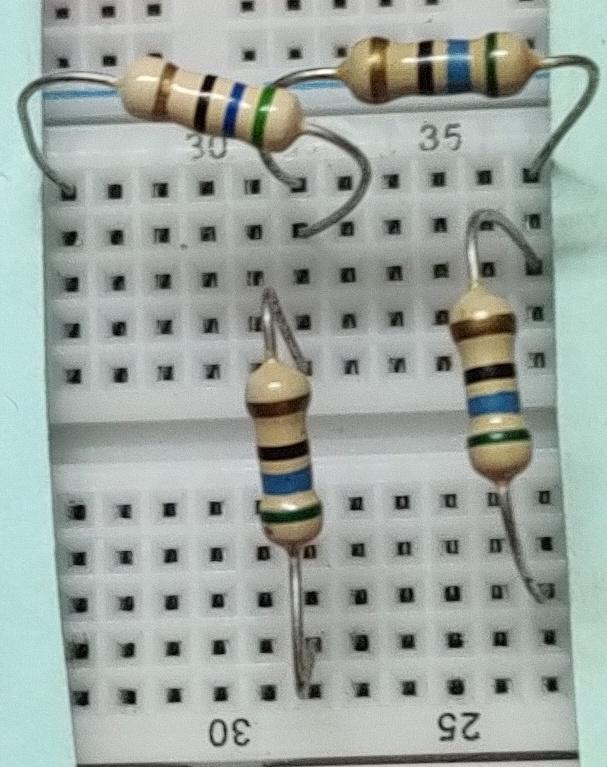resistor: (438, 270, 536, 497), (103, 48, 305, 158), (233, 349, 337, 560), (334, 32, 537, 105)
